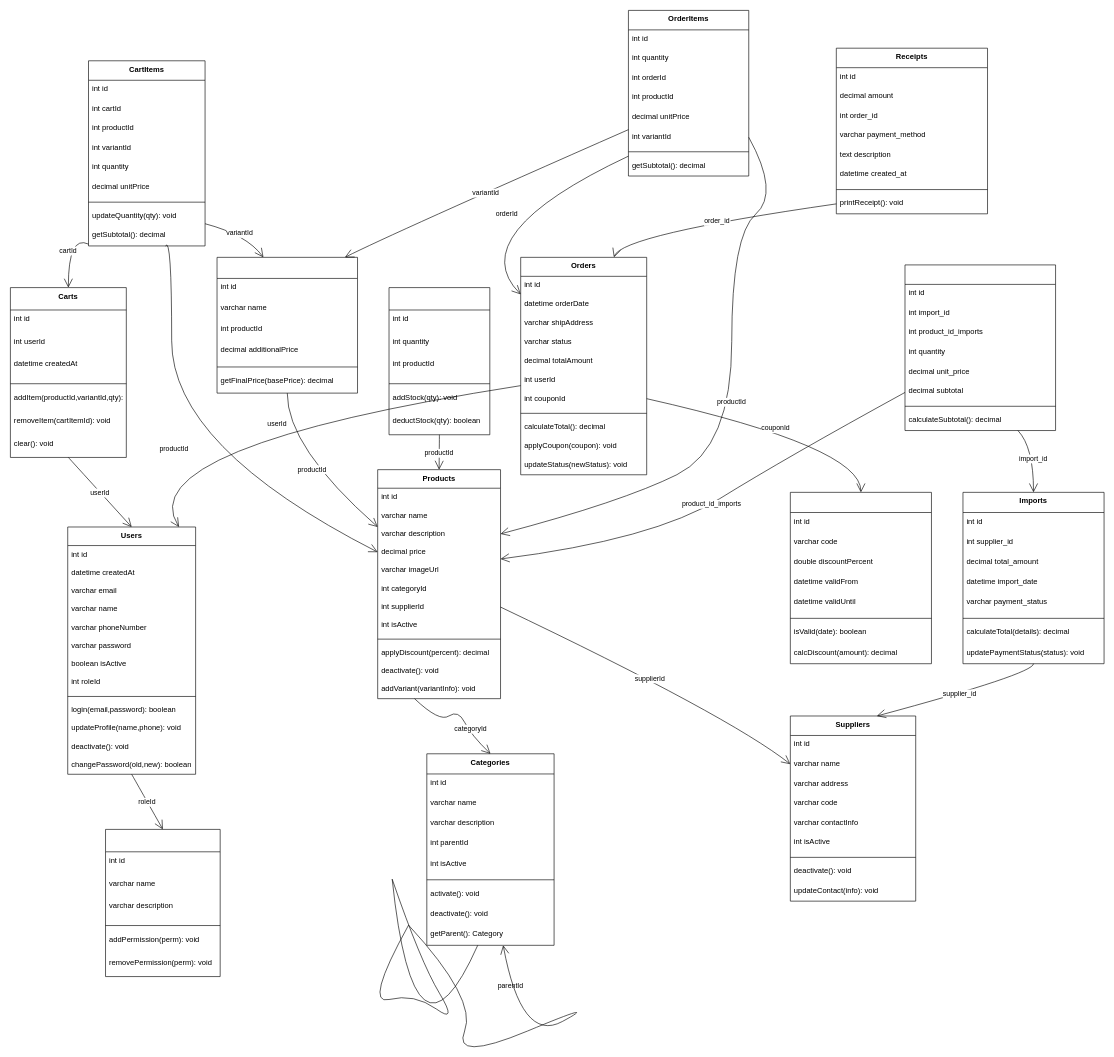
This 1114x1057 diagram has some shape labels left out. Each missing label, with the box of its shape:
Coupons: (790, 492, 931, 664)
ImportDetails: (904, 264, 1056, 431)
Inventories: (388, 287, 490, 435)
Roles: (105, 829, 220, 977)
Variants: (216, 257, 358, 393)
